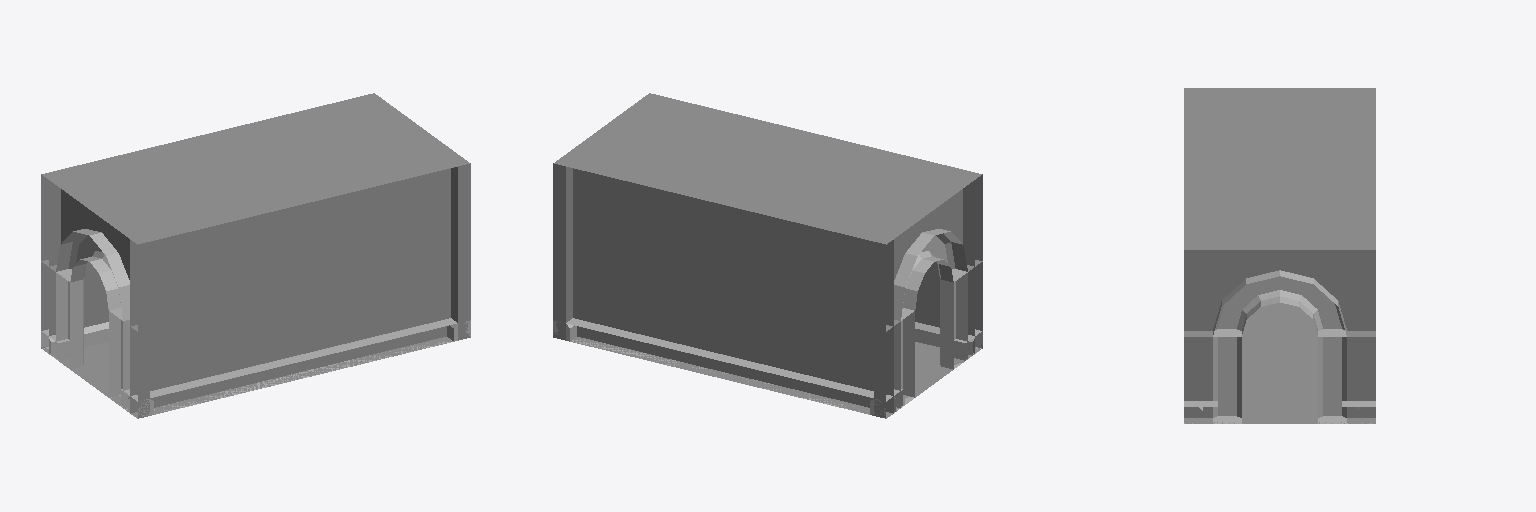
File: roomCorridor.obj
3 renders of one model, left to right at view 1: azimuth 30°, elevation 25°; view 2: azimuth 150°, elevation 25°; view 3: azimuth 270°, elevation 25°, orthographic.
Visible parts, largest first — view 1: struct_wall_main_half_5, struct_ceiling_7, struct_wall_big_door_upper_4, struct_wall_big_door_lower_2, struct_floor_main_half_0, struct_wall_base_half_9, struct_wall_main_half_6, struct_wall_big_door_upper_3, struct_wall_big_door_lower_1, struct_wall_big_door_base_half_11, struct_wall_base_half_8; view 2: struct_wall_main_half_6, struct_ceiling_7, struct_wall_big_door_upper_4, struct_wall_big_door_lower_2, struct_floor_main_half_0, struct_wall_main_half_5, struct_wall_big_door_upper_3, struct_wall_base_half_8, struct_wall_big_door_lower_1, struct_wall_base_half_9, struct_wall_big_door_base_half_11; view 3: struct_ceiling_7, struct_wall_big_door_upper_3, struct_wall_big_door_lower_1, struct_floor_main_half_0, struct_wall_big_door_upper_4.
Part boxes in pixels (x1,y1,x2,y2): struct_wall_main_half_5: (130, 168, 450, 413); struct_ceiling_7: (42, 93, 468, 243); struct_wall_big_door_upper_4: (41, 174, 149, 331); struct_wall_big_door_lower_2: (41, 261, 149, 418); struct_floor_main_half_0: (45, 337, 453, 418); struct_wall_base_half_9: (128, 318, 456, 413); struct_wall_main_half_6: (49, 180, 108, 353); struct_wall_big_door_upper_3: (363, 94, 470, 253); struct_wall_big_door_lower_1: (451, 249, 470, 340); struct_wall_big_door_base_half_11: (41, 329, 153, 416); struct_wall_base_half_8: (46, 322, 108, 355); struct_wall_main_half_6: (573, 168, 893, 413); struct_ceiling_7: (555, 94, 978, 243); struct_wall_big_door_upper_4: (874, 172, 982, 331); struct_wall_big_door_lower_2: (874, 260, 982, 417); struct_floor_main_half_0: (570, 337, 981, 418); struct_wall_main_half_5: (915, 180, 974, 353); struct_wall_big_door_upper_3: (553, 93, 660, 253); struct_wall_base_half_8: (567, 318, 895, 414); struct_wall_big_door_lower_1: (553, 249, 572, 340); struct_wall_base_half_9: (915, 322, 980, 355); struct_wall_big_door_base_half_11: (870, 329, 982, 418); struct_ceiling_7: (1184, 88, 1375, 249); struct_wall_big_door_upper_3: (1184, 244, 1375, 336); struct_wall_big_door_lower_1: (1184, 329, 1375, 423); struct_floor_main_half_0: (1185, 303, 1370, 423); struct_wall_big_door_upper_4: (1184, 88, 1375, 93).
Size of the model in its own units: 4 by 2 by 2.